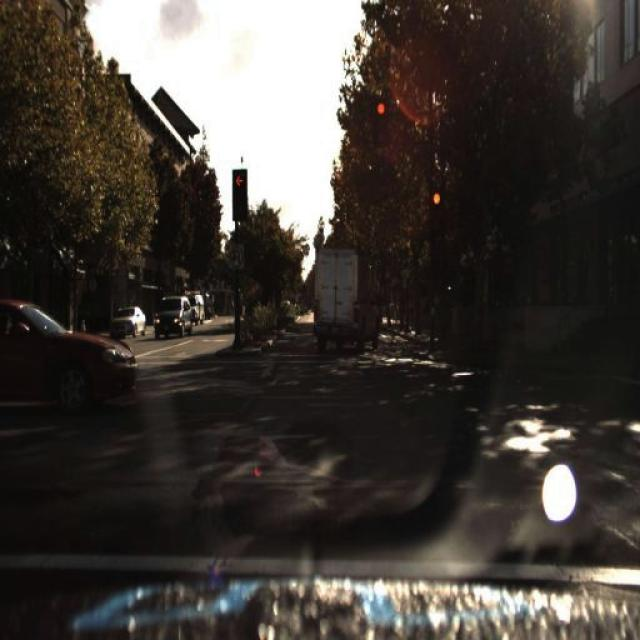semaforo: (372, 97, 391, 149), (232, 169, 248, 221), (428, 188, 445, 236)
